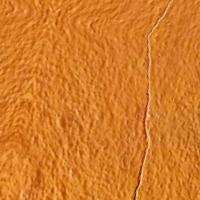crack: (120, 11, 183, 199)
